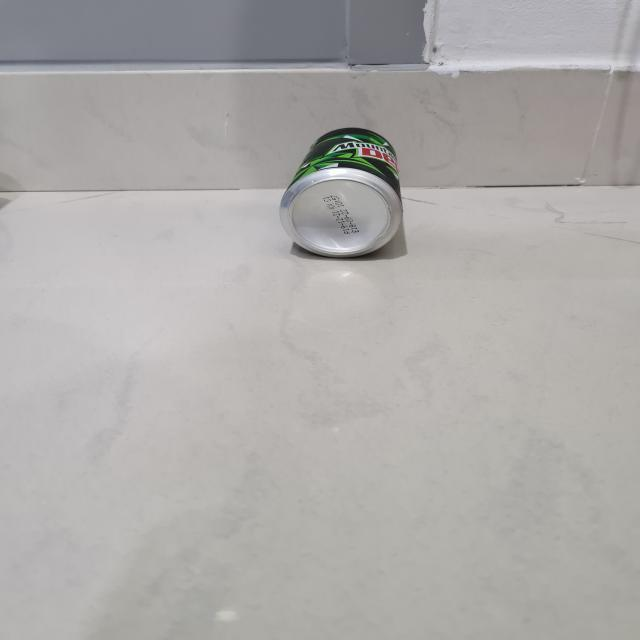can: (272, 126, 409, 260)
